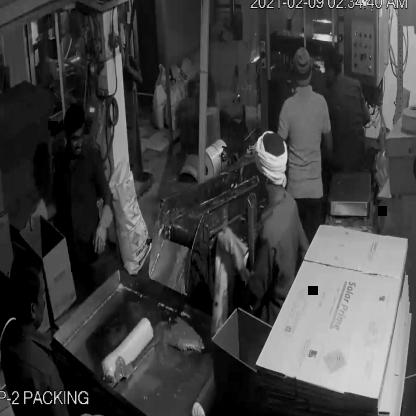glove: (212, 224, 250, 278), (86, 202, 121, 259), (19, 194, 57, 236)
